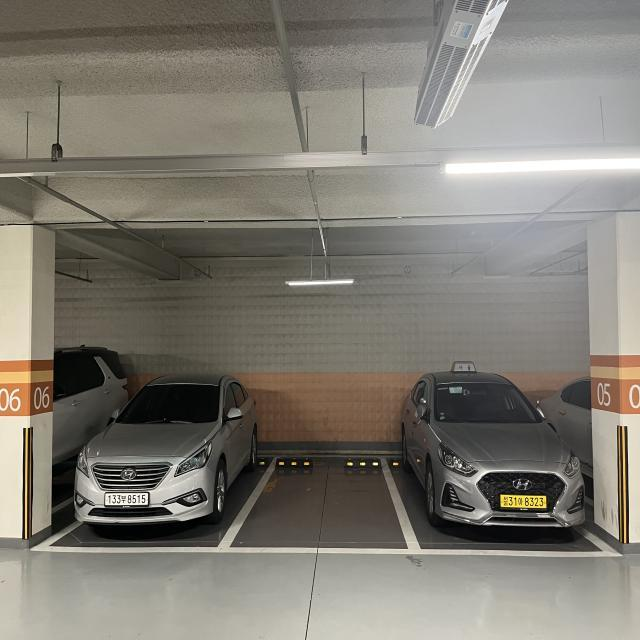empty: (209, 445, 429, 563)
occupied: (394, 350, 614, 562), (69, 368, 242, 550)
